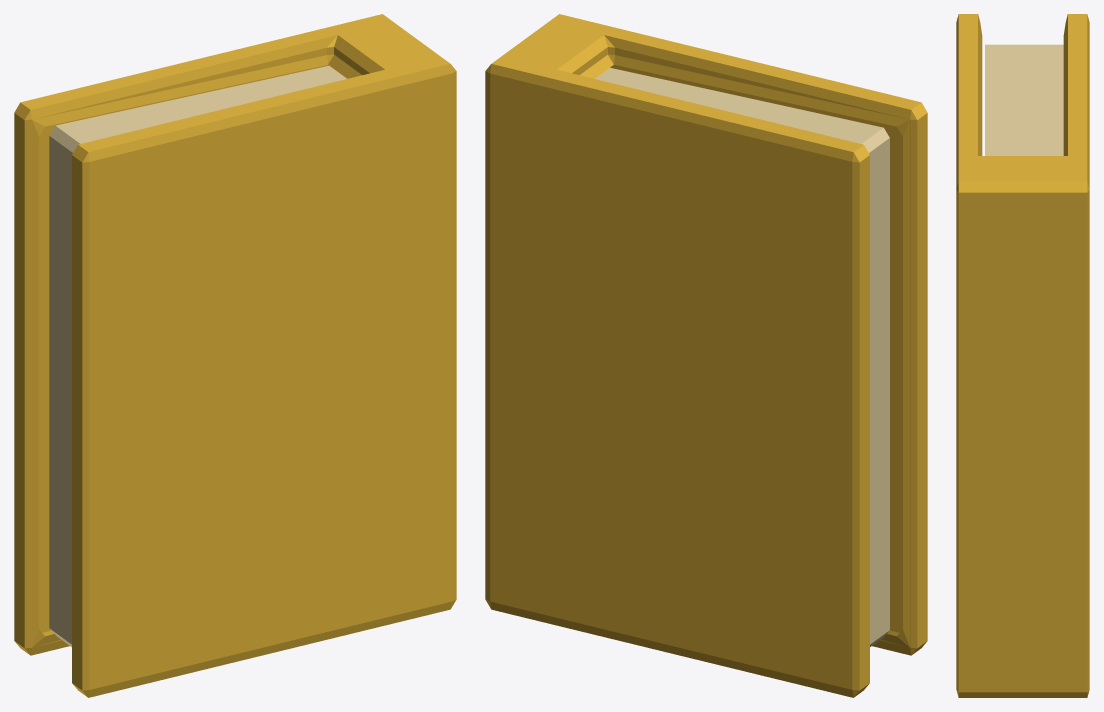
Rendered from BookProp.fbx.
3 views of the same model, side by side, from view 1: azimuth 30°, elevation 25°; view 2: azimuth 150°, elevation 25°; view 3: azimuth 270°, elevation 25° (orthographic). The views are drawn at different scales.
Parts seen in each view (by area): view 1: Pages; view 2: Pages; view 3: Pages.
Part boxes in pixels (left/top/right/bottom): Pages: left=14, top=14, right=456, bottom=697; Pages: left=485, top=14, right=927, bottom=697; Pages: left=956, top=14, right=1089, bottom=697.
Bounding box in the file's own units: 17.15 × 23.89 × 5.58.
